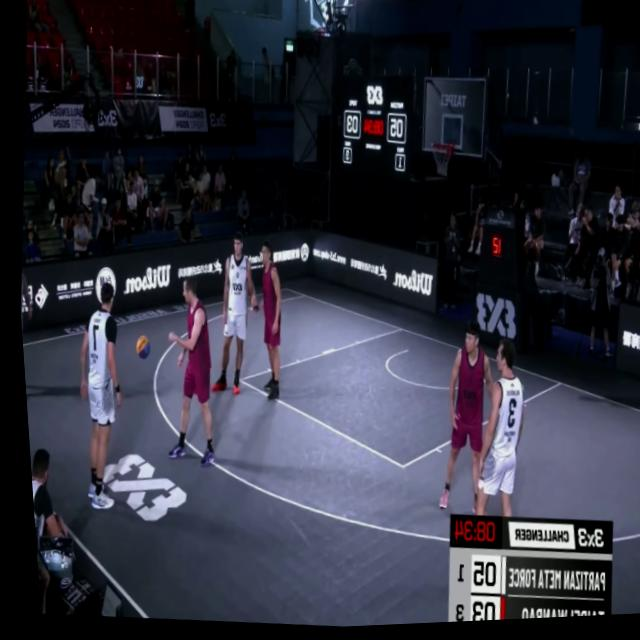ball: (129, 331, 148, 365)
hoop: (425, 135, 455, 182)
player: (421, 321, 503, 525), (60, 284, 133, 510), (456, 339, 531, 537), (149, 278, 221, 476), (195, 236, 258, 403), (239, 241, 288, 406)
